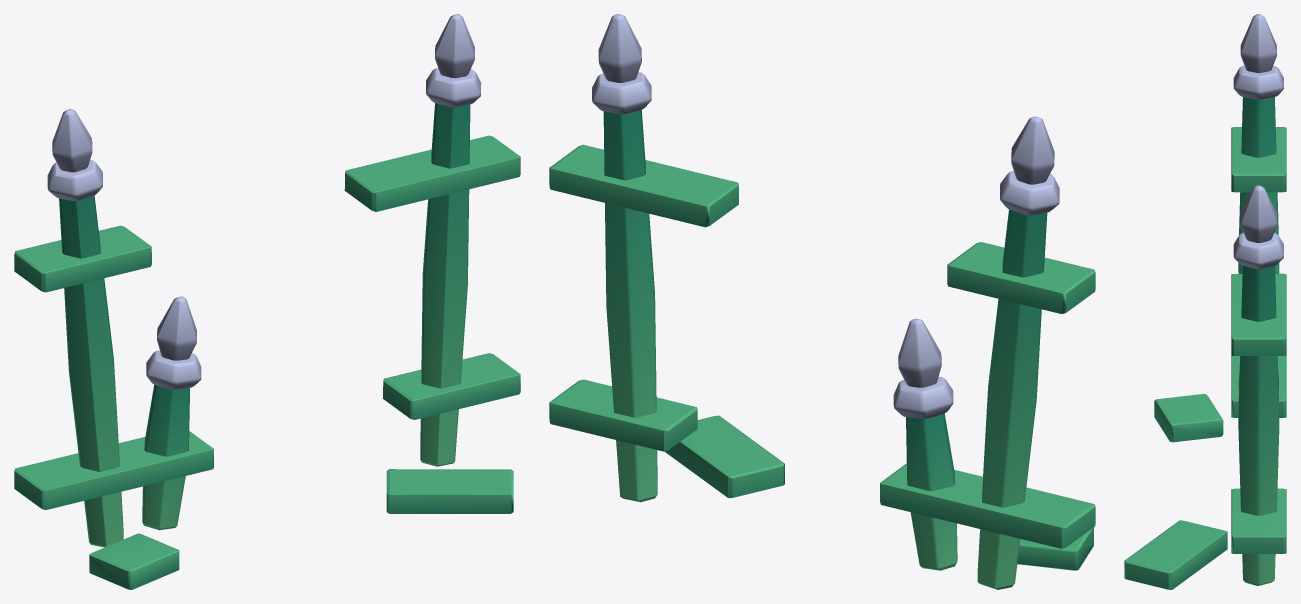
The model's file is kenney-graveyard__iron-fence-damaged.glb.
The picture shows the model from 3 angles, left to right: view 1: azimuth 30°, elevation 25°; view 2: azimuth 150°, elevation 25°; view 3: azimuth 270°, elevation 25°; orthographic projection. The views are drawn at different scales.
Visible parts, largest first — view 1: iron-fence-damaged; view 2: iron-fence-damaged; view 3: iron-fence-damaged.
Boxes of the visible parts, bbox=[...] form: iron-fence-damaged: bbox=[14, 14, 520, 589]; iron-fence-damaged: bbox=[549, 14, 1095, 589]; iron-fence-damaged: bbox=[1124, 14, 1286, 589].
Size of the model in its own units: 1 by 0.8798 by 0.3222.
1 material, 1 textured.
